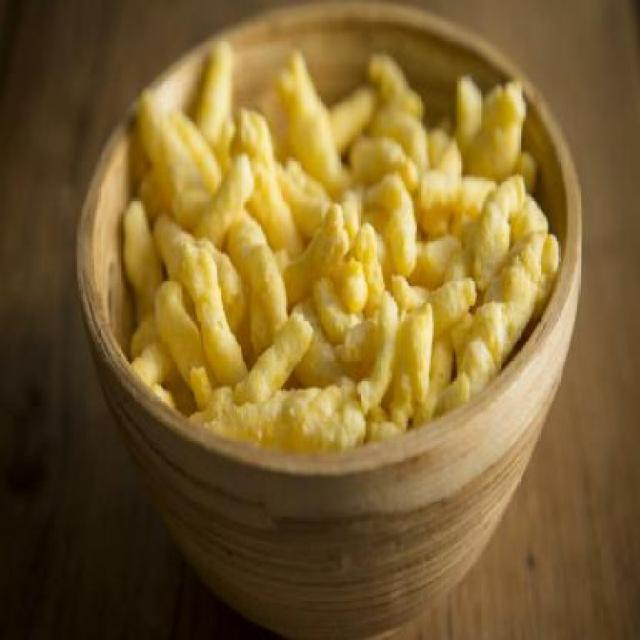Chips packaged: (164, 220, 250, 388), (240, 310, 318, 412), (284, 201, 356, 305), (382, 173, 420, 264)
